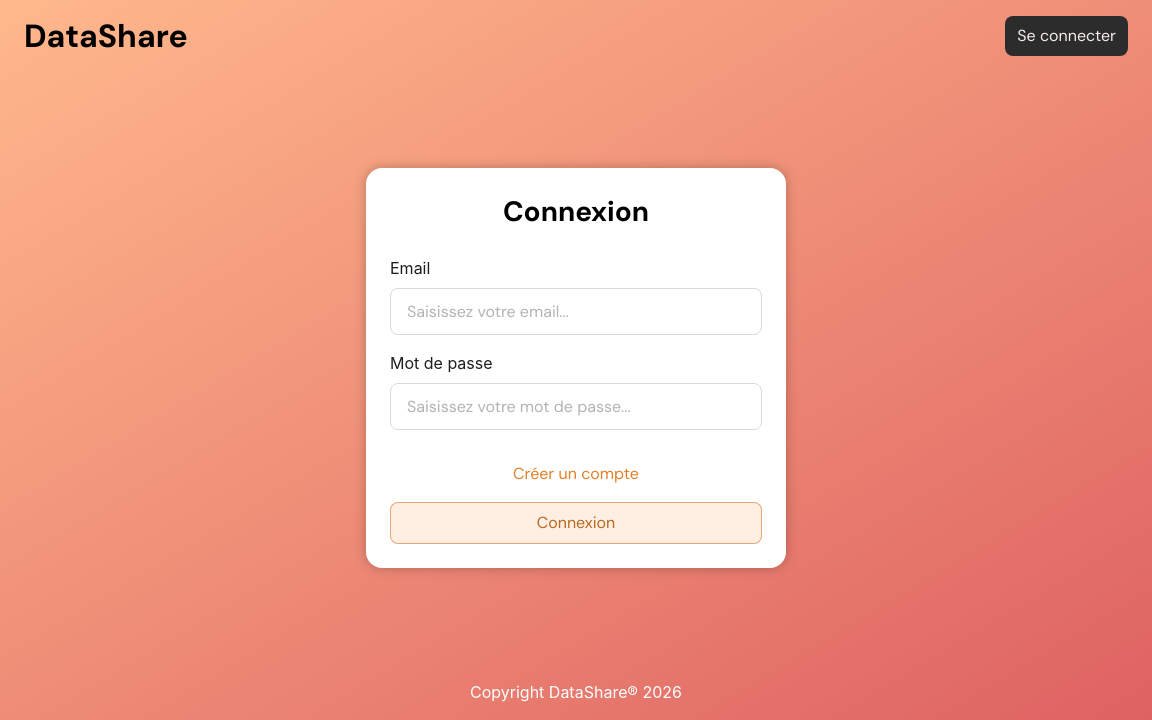
Test: LoginView › affiche une erreur et n'appelle pas login si le mot de passe est vide
Type "user@example.com" into the field with id "login-email" at (576, 312), box top-left (390, 288), bottom-right (762, 335)
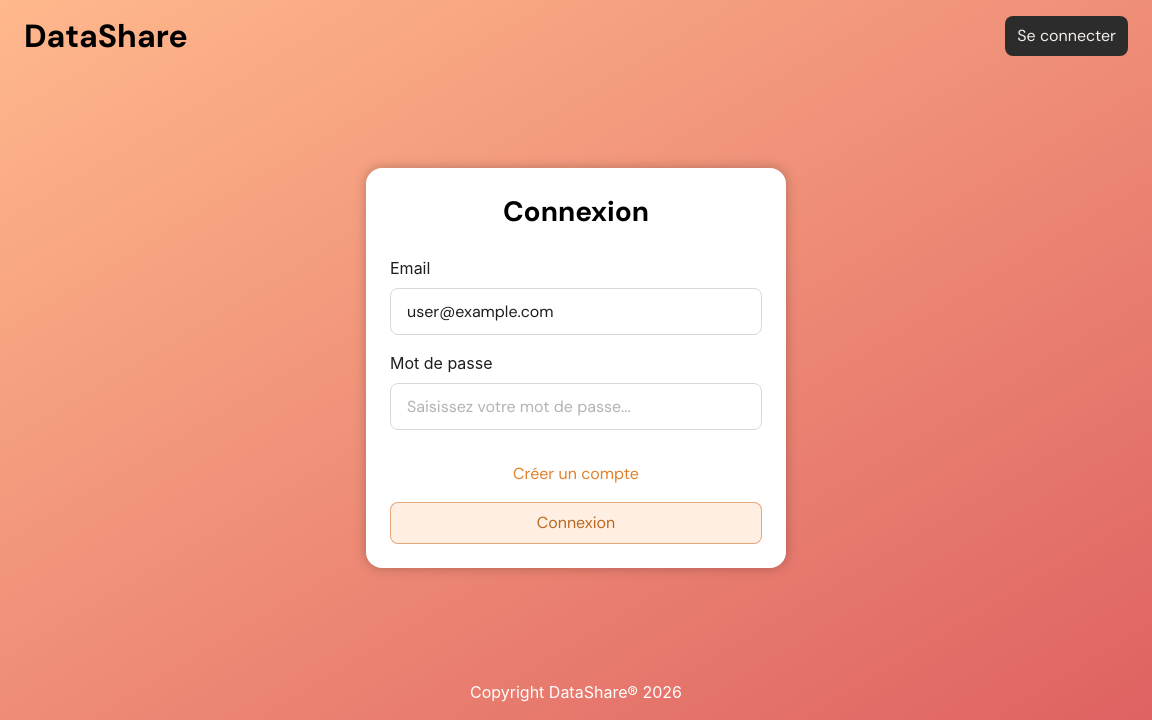
Submit the form, box top-left (390, 256), bottom-right (762, 544)
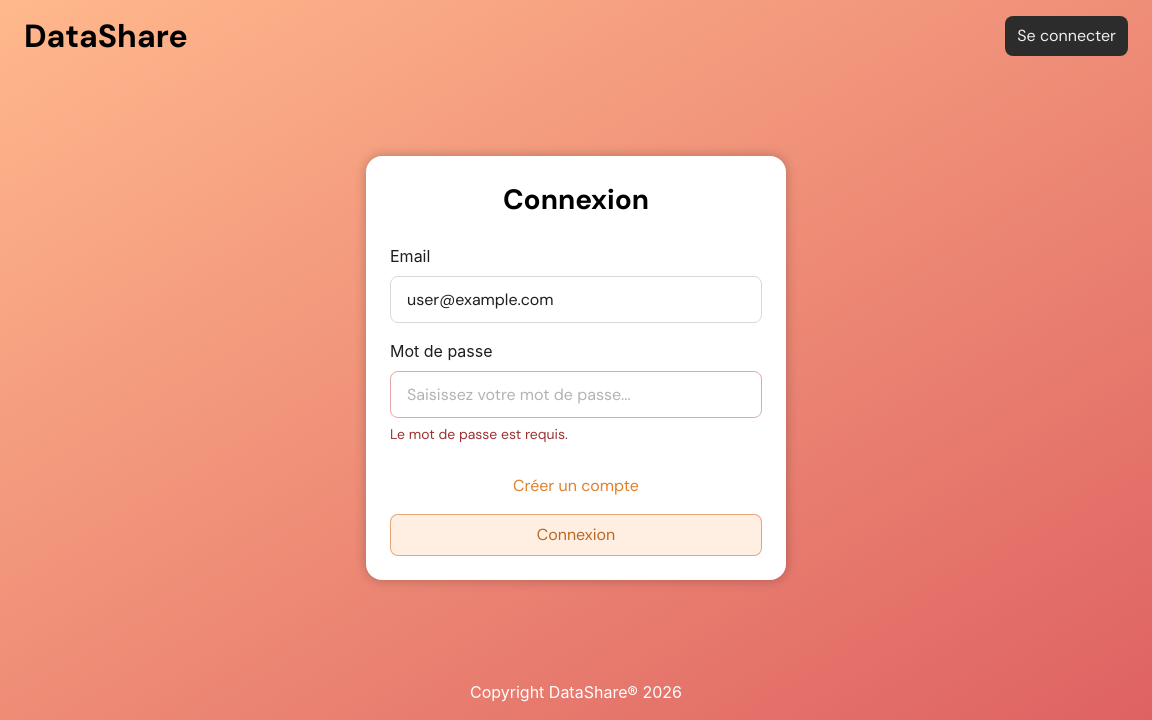
Expected: the text with id "login-password-error" reads "Le mot de passe est requis.", top-left (390, 425), bottom-right (568, 443)
